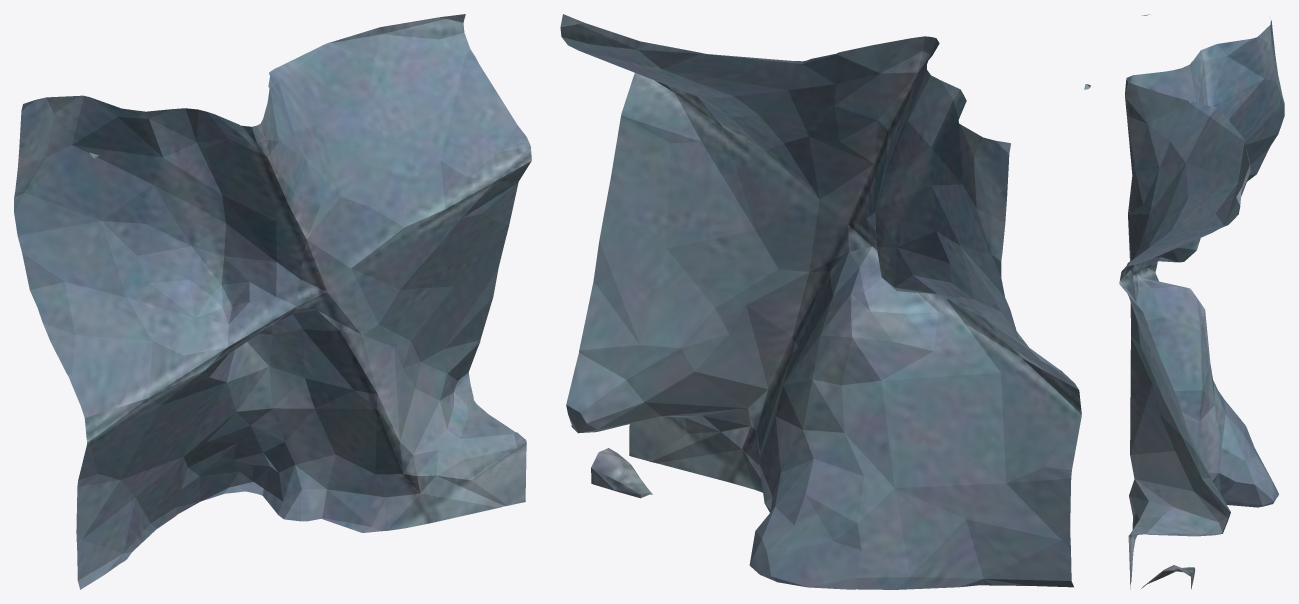
The model's file is Tile_+004_+007_L23_003031.obj.
3 views of the same model, side by side, from view 1: azimuth 30°, elevation 25°; view 2: azimuth 150°, elevation 25°; view 3: azimuth 270°, elevation 25° (orthographic). The views are drawn at different scales.
Bounding box in the file's own units: 1.91 × 1.91 × 0.728.
Materials: 1 (1 with a texture image).
